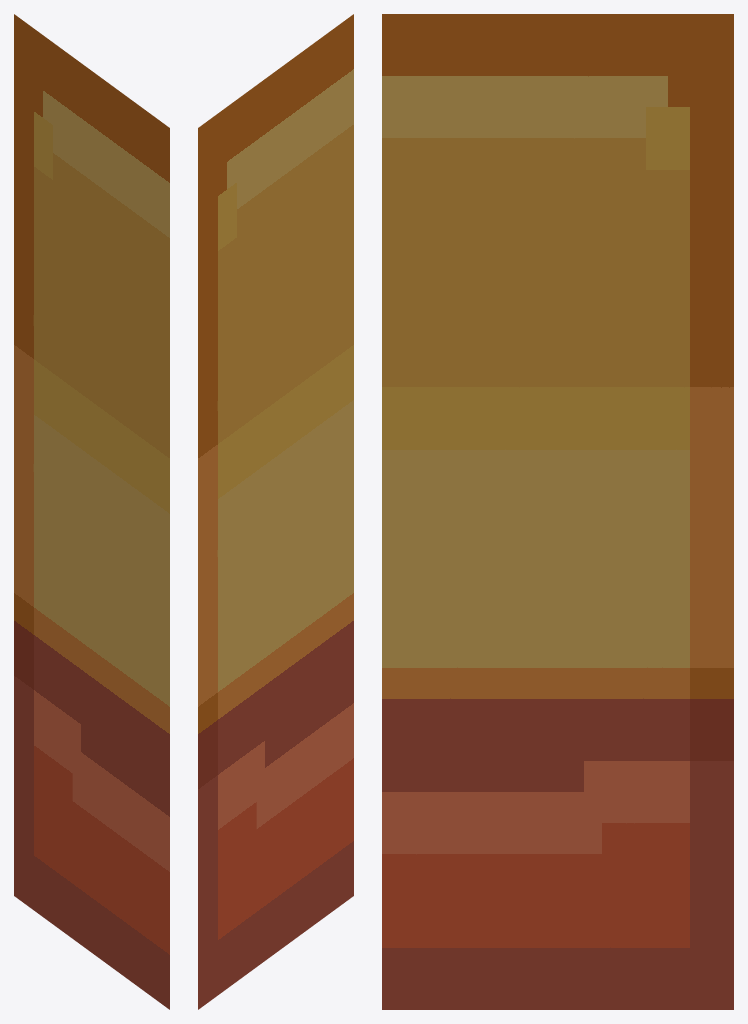
3 views of the same model, side by side, from view 1: azimuth 30°, elevation 25°; view 2: azimuth 150°, elevation 25°; view 3: azimuth 270°, elevation 25° (orthographic). The views are drawn at different scales.
Size of the model in its own units: 0 by 3.12 by 1.
Materials: 1 (1 with a texture image).
